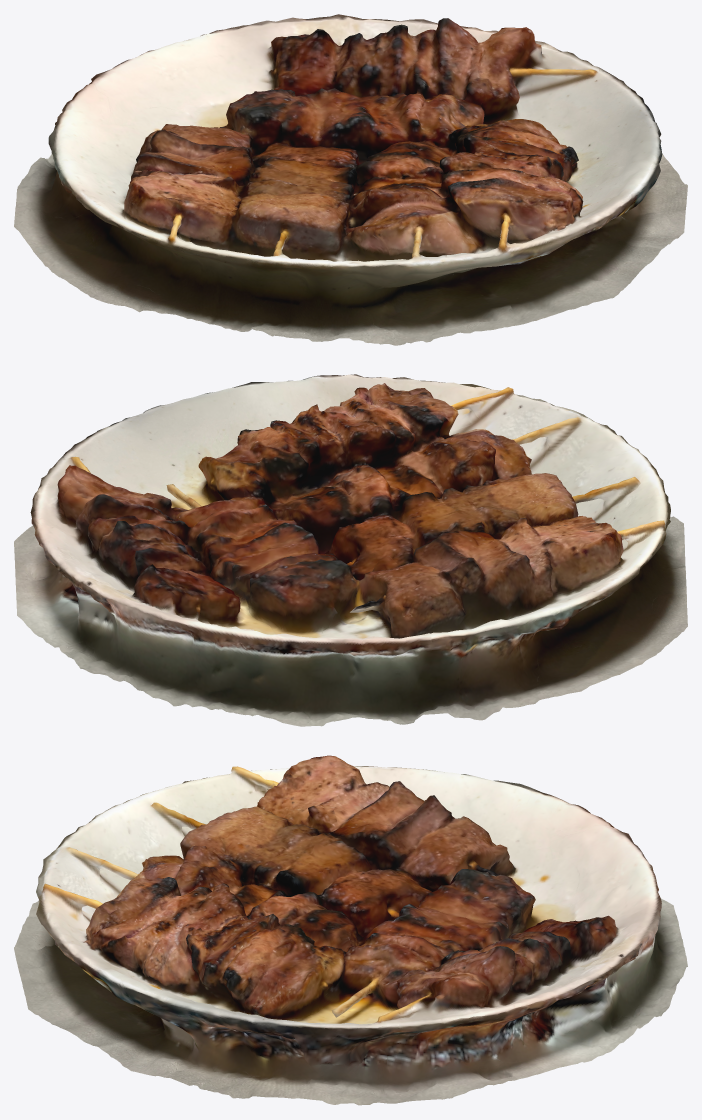
File: Food 3D Model by Nicotrico (1).glb
The picture shows the model from 3 angles, top to bottom: view 1: azimuth 30°, elevation 25°; view 2: azimuth 150°, elevation 25°; view 3: azimuth 270°, elevation 25°; orthographic projection. The views are drawn at different scales.
Visible parts, largest first — view 1: 3Ddata_0; view 2: 3Ddata_0; view 3: 3Ddata_0.
Part boxes in pixels (x1,y1,x2,y2): 3Ddata_0: [14, 14, 687, 345]; 3Ddata_0: [14, 374, 687, 726]; 3Ddata_0: [14, 755, 687, 1105].
Size of the model in its own units: 0.2614 by 0.0429 by 0.2551.
Materials: 1 (1 with a texture image).
